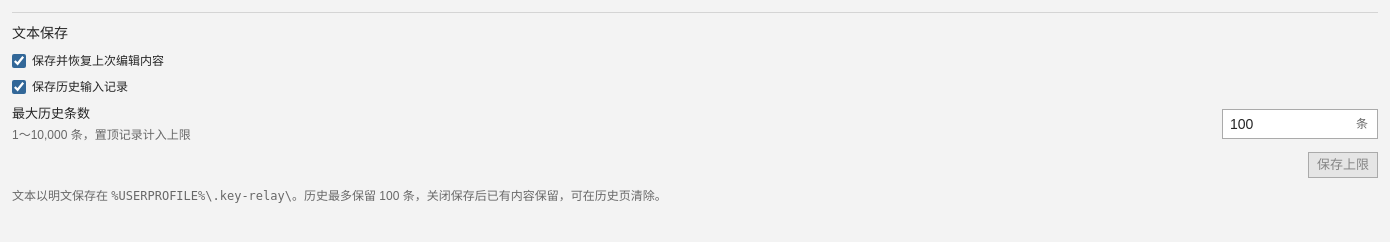
it: maximum history preference › rejects invalid limit 1.5 without a mutation
The width and height of the screenshot is (1390, 242).
Replace the text in the number field labelled "最大历史条数" with "1.5": (1288, 124) [1223,110,1352,138]
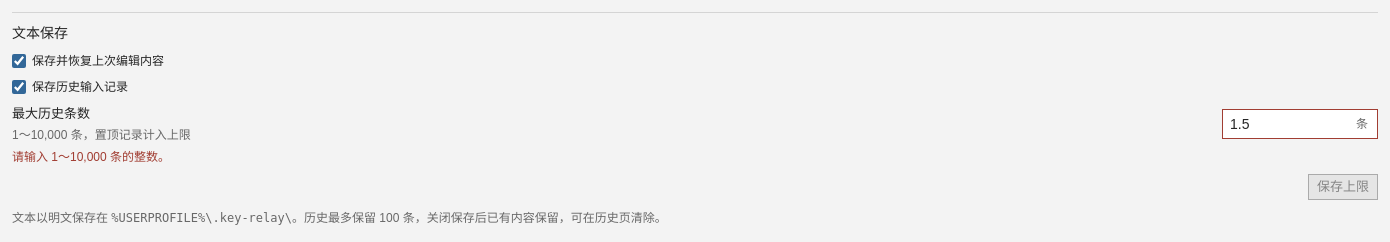
Expected: the button "保存上限" is disabled, [1308,174,1378,200]
Expected: the message shows "1～10,000", [12,150,170,164]
